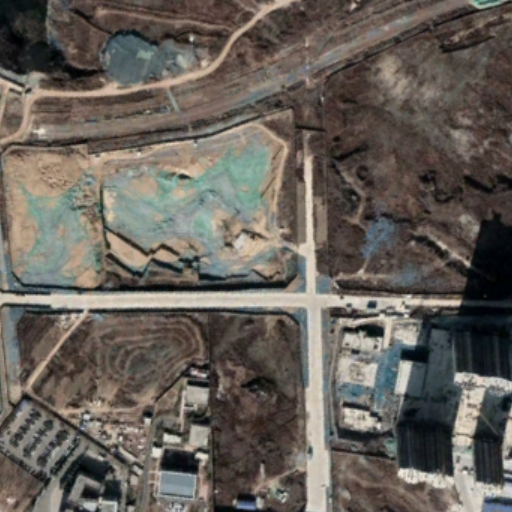cw: (5, 121, 295, 289)
